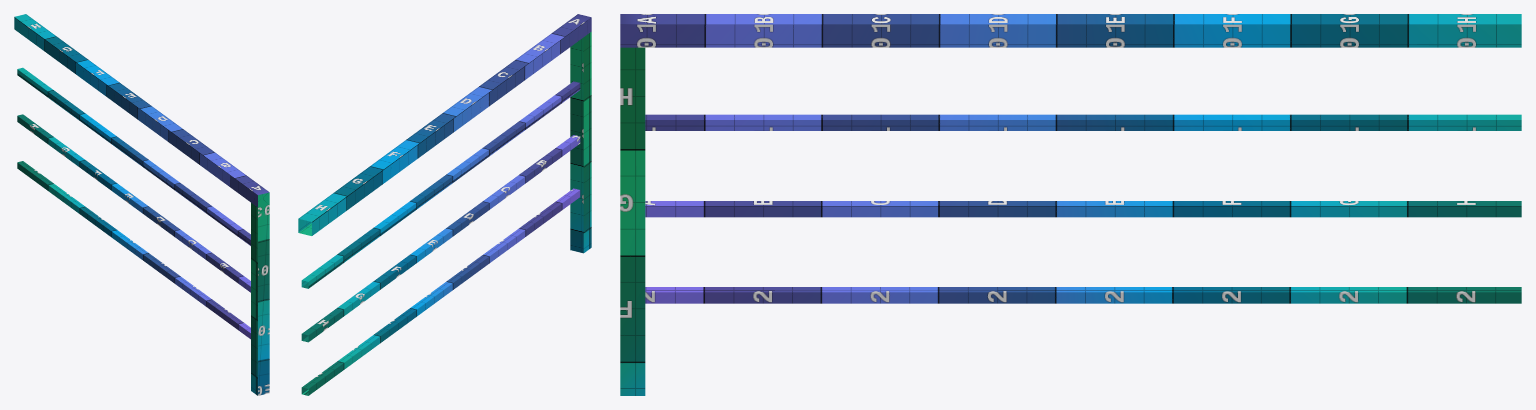
The model's file is BalconyRamp_a.fbx.
3 views of the same model, side by side, from view 1: azimuth 30°, elevation 25°; view 2: azimuth 150°, elevation 25°; view 3: azimuth 270°, elevation 25° (orthographic). The views are drawn at different scales.
Visible parts, largest first — view 1: Rembarde; view 2: Rembarde; view 3: Rembarde.
Boxes of the visible parts, x1=… form: Rembarde: x1=14, y1=14, x2=269, y2=395; Rembarde: x1=298, y1=14, x2=591, y2=395; Rembarde: x1=620, y1=14, x2=1521, y2=395.
Size of the model in its own units: 7.65 by 124 by 273.
